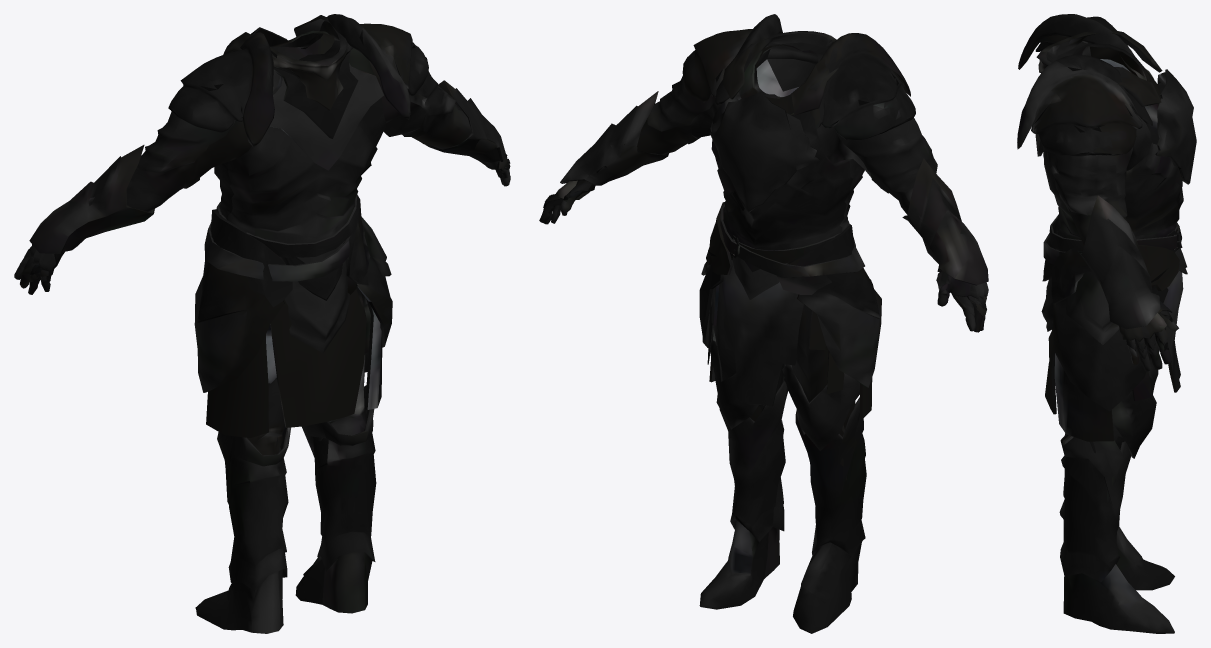
The picture shows the model from 3 angles, left to right: view 1: azimuth 30°, elevation 25°; view 2: azimuth 150°, elevation 25°; view 3: azimuth 270°, elevation 25°; orthographic projection. The views are drawn at different scales.
Parts seen in each view (by area): view 1: mesh_0; view 2: mesh_0; view 3: mesh_0.
Boxes of the visible parts, x1=… form: mesh_0: x1=14, y1=14, x2=510, y2=633; mesh_0: x1=539, y1=14, x2=988, y2=633; mesh_0: x1=1017, y1=14, x2=1196, y2=633.
Bounding box in the file's own units: 54.66 × 66.18 × 18.85.
Materials: 1 (1 with a texture image).
